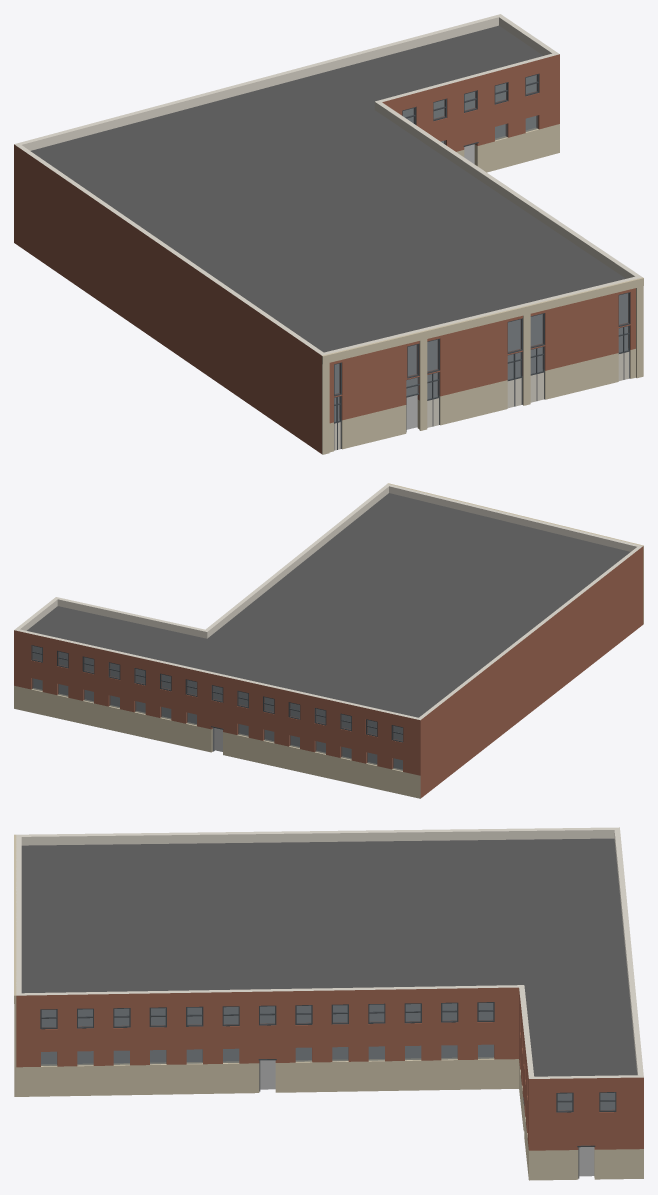
File: exterior.glb
3 views of the same model, one above another, from view 1: azimuth 30°, elevation 25°; view 2: azimuth 150°, elevation 25°; view 3: azimuth 270°, elevation 25° (orthographic). The views are drawn at different scales.
Visible parts, largest first — view 1: roof, shell, relief-3, glazing, shadow-proxy, storefront, frames; view 2: roof, shell, glazing, shadow-proxy, frames, relief-3; view 3: roof, shell, glazing, shadow-proxy, frames, relief-3.
Part boxes in pixels (<box>): roof: <box>30,25,625,352</box>; shell: <box>14,14,642,453</box>; relief-3: <box>322,277,643,454</box>; glazing: <box>334,75,628,421</box>; shadow-proxy: <box>334,75,627,429</box>; storefront: <box>334,142,629,450</box>; frames: <box>334,73,630,396</box>; roof: <box>27,493,630,717</box>; shell: <box>14,484,643,798</box>; glazing: <box>32,646,402,770</box>; shadow-proxy: <box>33,646,402,769</box>; frames: <box>31,645,403,742</box>; relief-3: <box>387,483,643,624</box>; roof: <box>21,838,637,1076</box>; shell: <box>16,827,643,1180</box>; glazing: <box>41,1003,615,1110</box>; shadow-proxy: <box>41,1003,614,1176</box>; frames: <box>40,1002,616,1112</box>; relief-3: <box>14,834,16,1096</box>.
Bounding box in the file's own units: 36.25 × 6.81 × 38.35.
